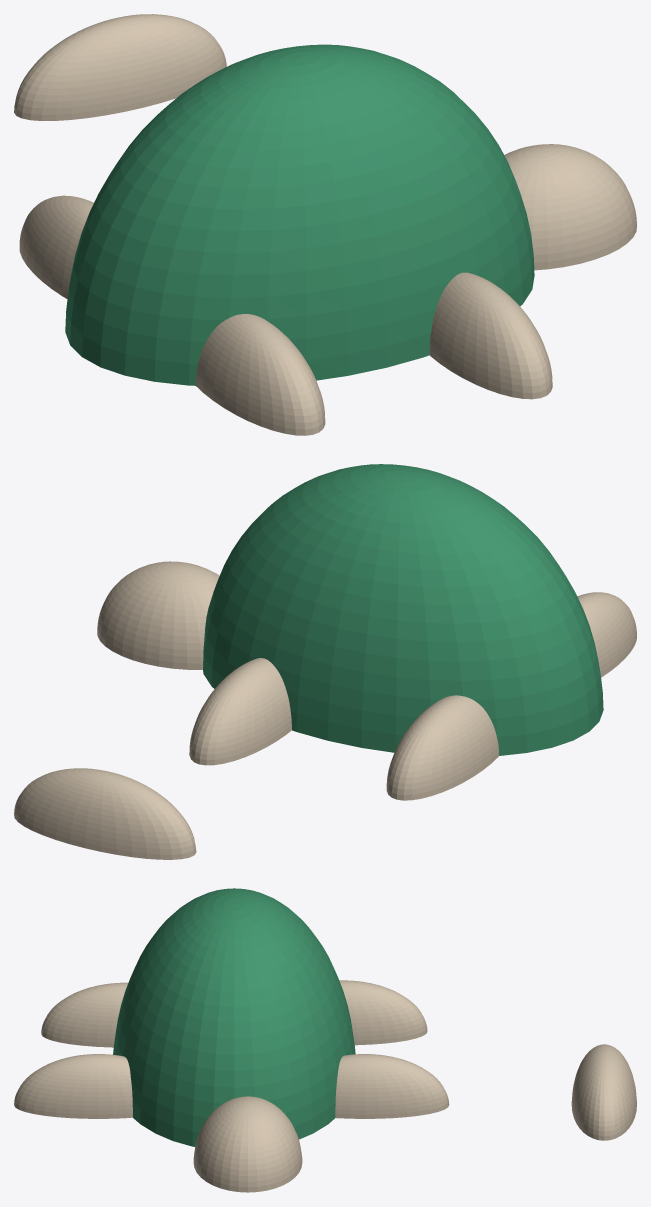
Rendered from tortoise.glb.
3 renders of one model, top to bottom at view 1: azimuth 30°, elevation 25°; view 2: azimuth 150°, elevation 25°; view 3: azimuth 270°, elevation 25°, orthographic. The views are drawn at different scales.
Visible parts, largest first — view 1: Mesh_Mesh_head_geo.001_lambert2SG.001; view 2: Mesh_Mesh_head_geo.001_lambert2SG.001; view 3: Mesh_Mesh_head_geo.001_lambert2SG.001.
Part boxes in pixels (x1=…): Mesh_Mesh_head_geo.001_lambert2SG.001: x1=14, y1=14, x2=636, y2=435; Mesh_Mesh_head_geo.001_lambert2SG.001: x1=14, y1=464, x2=636, y2=859; Mesh_Mesh_head_geo.001_lambert2SG.001: x1=14, y1=888, x2=636, y2=1192.
Size of the model in its own units: 83 by 35 by 114.
